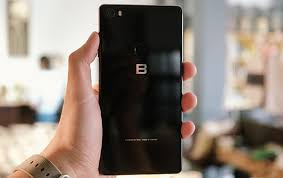bphone: (95, 3, 184, 175)
